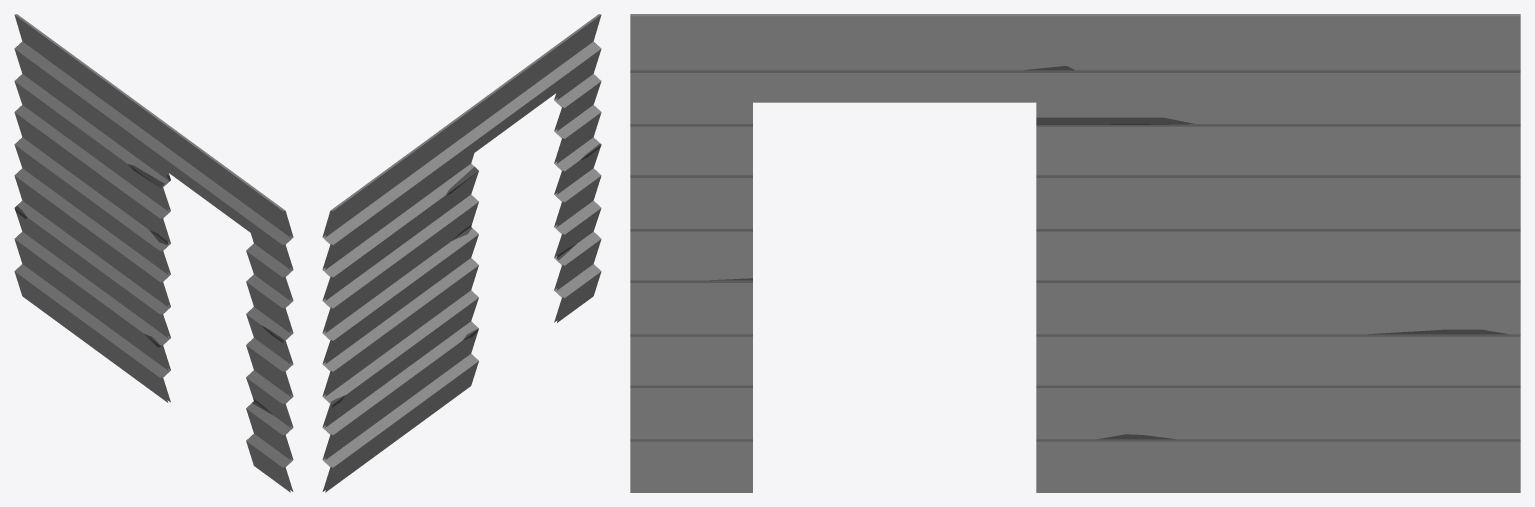
Rendered from builder_9.FBX.
The picture shows the model from 3 angles, left to right: view 1: azimuth 30°, elevation 25°; view 2: azimuth 150°, elevation 25°; view 3: azimuth 270°, elevation 25°; orthographic projection. The views are drawn at different scales.
Visible parts, largest first — view 1: builder_9; view 2: builder_9; view 3: builder_9.
Boxes of the visible parts, <box> form: builder_9: <box>14,14,293,492</box>; builder_9: <box>322,14,601,492</box>; builder_9: <box>630,14,1520,492</box>.
Size of the model in its own units: 2.79 by 71.88 by 123.
